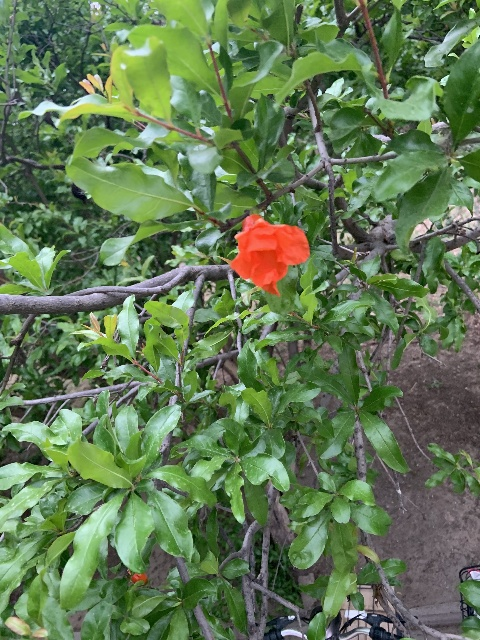bud: (128, 567, 147, 585)
flower: (227, 214, 309, 295)
